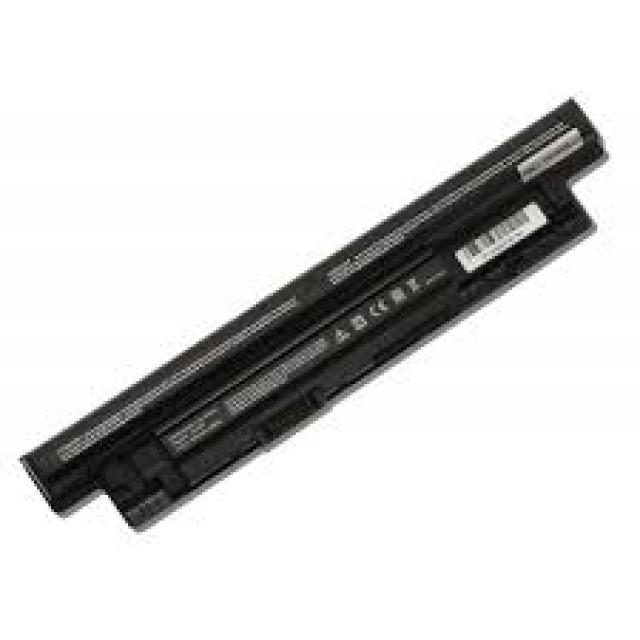non-organic waste: (15, 97, 607, 532)
